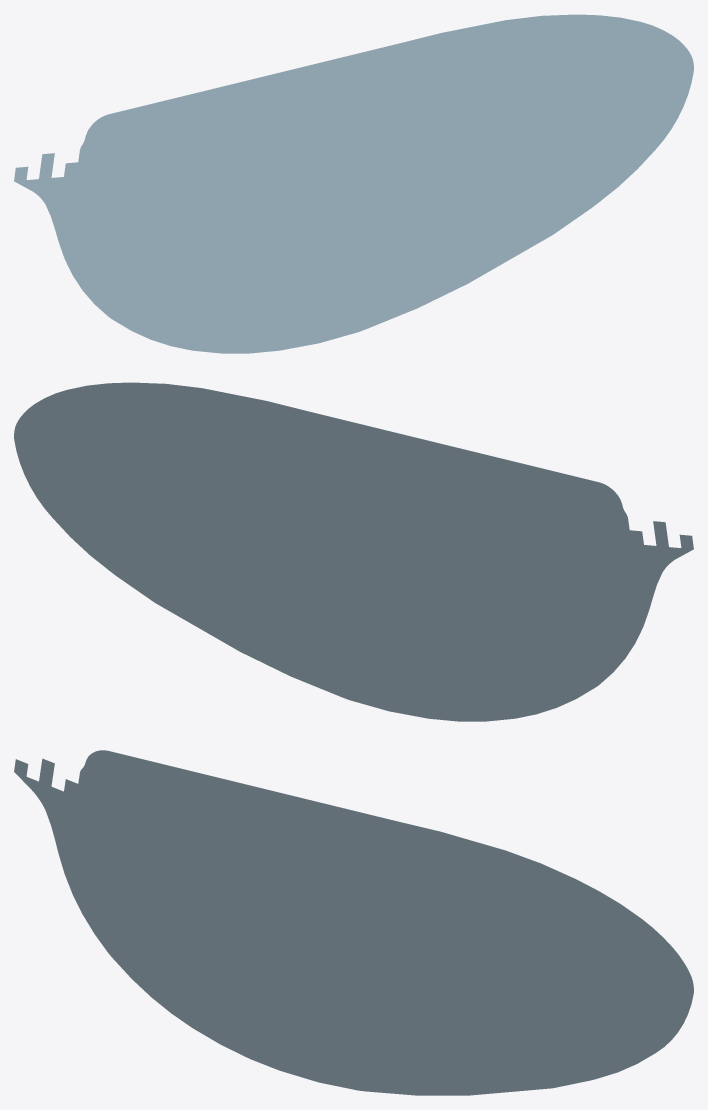
File: wing_membrane.obj
3 views of the same model, one above another, from view 1: azimuth 30°, elevation 25°; view 2: azimuth 150°, elevation 25°; view 3: azimuth 330°, elevation 25° (orthographic).
Visible parts, largest first — view 1: mesh251; view 2: mesh252; view 3: mesh251.
Boxes of the visible parts, <box> form: mesh251: <box>14,14,693,353</box>; mesh252: <box>14,382,693,721</box>; mesh251: <box>14,750,693,1095</box>.
Bounding box in the file's own units: 0.0135 × 0.00531 × 1.5e-06.
